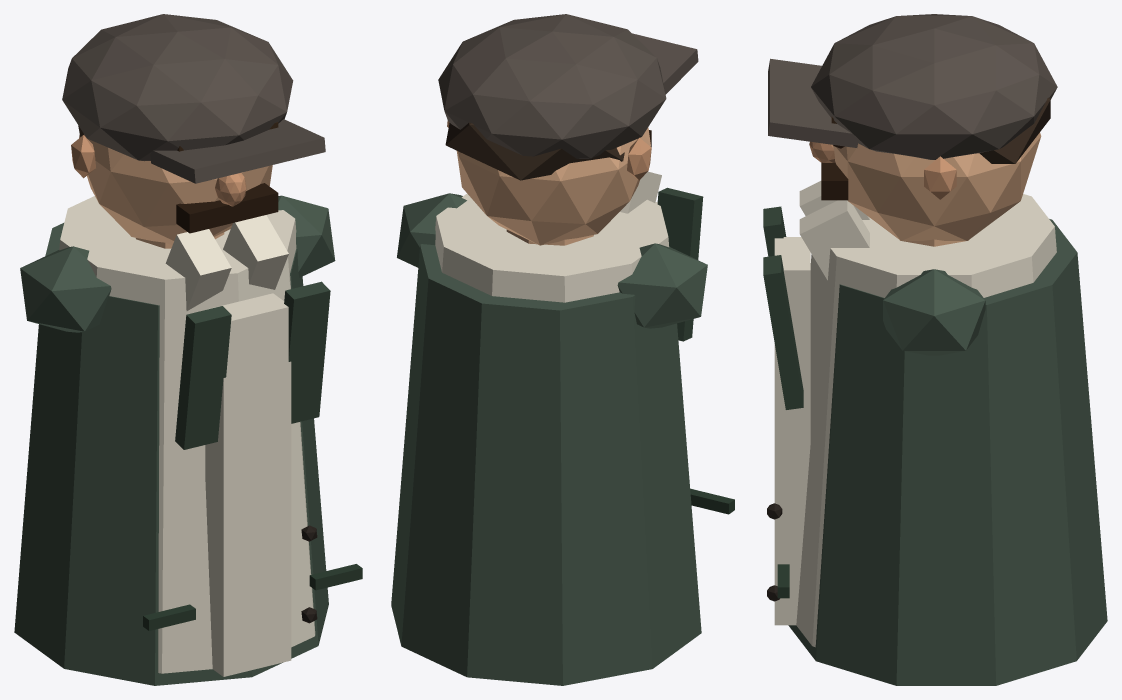
The model's file is insan_e3k_govde.glb.
3 views of the same model, side by side, from view 1: azimuth 30°, elevation 25°; view 2: azimuth 150°, elevation 25°; view 3: azimuth 270°, elevation 25° (orthographic).
Parts seen in each view (by area): view 1: Cone; view 2: Cone; view 3: Cone.
Boxes of the visible parts, x1,y1,x2,y2 form: Cone: (14,14,362,685); Cone: (391,14,734,685); Cone: (763,14,1107,685).
Size of the model in its own units: 0.1158 by 0.217 by 0.1142.
